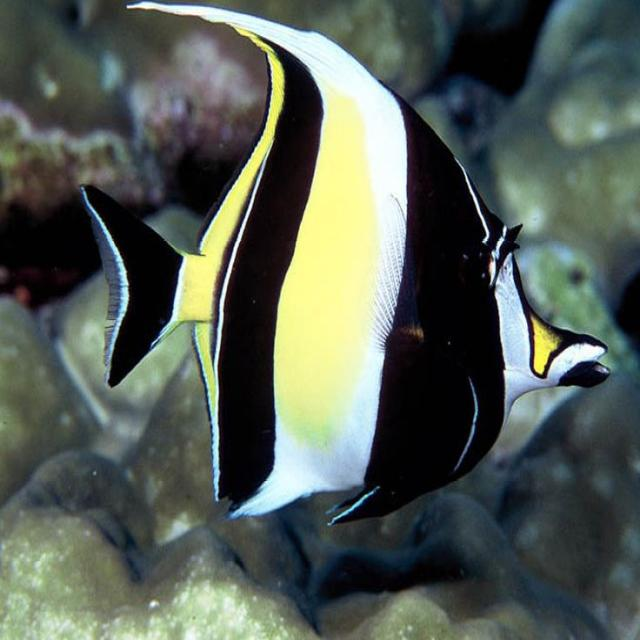MorishIdol: (76, 1, 612, 531)
